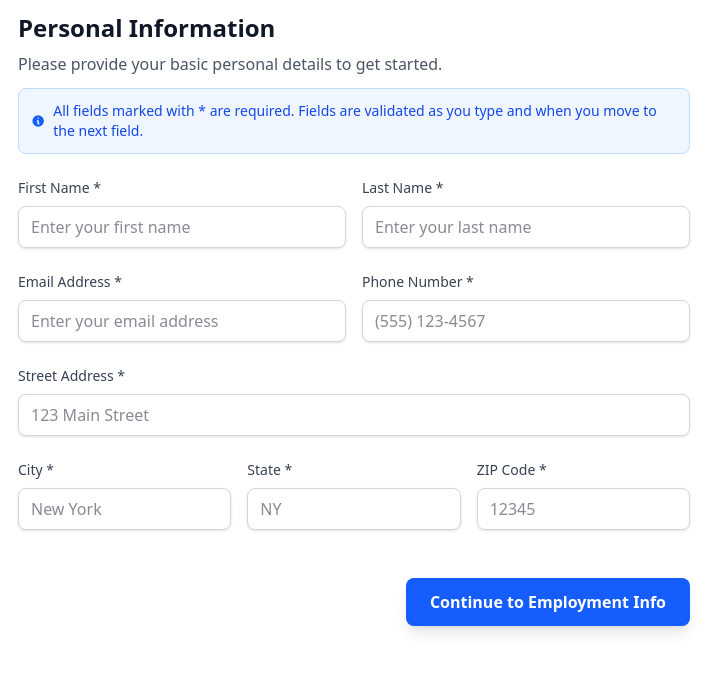
Scenario: PersonalInfoForm Email Validation › shows validation error for invalid email format on blur
The width and height of the screenshot is (709, 676).
Note: Enter invalid email
Type "invalid-email" into the field labelled "Email Address *" at (182,321), box [18,300,346,342]
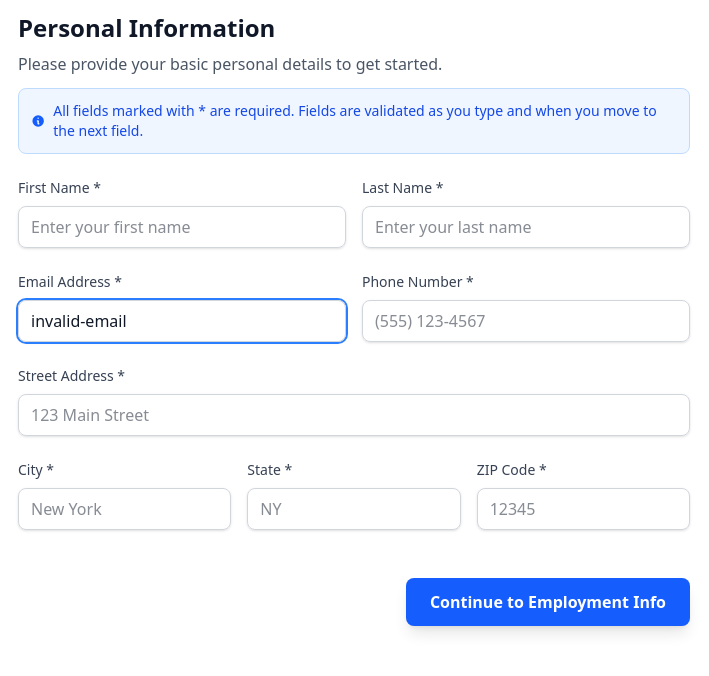
Press Tab
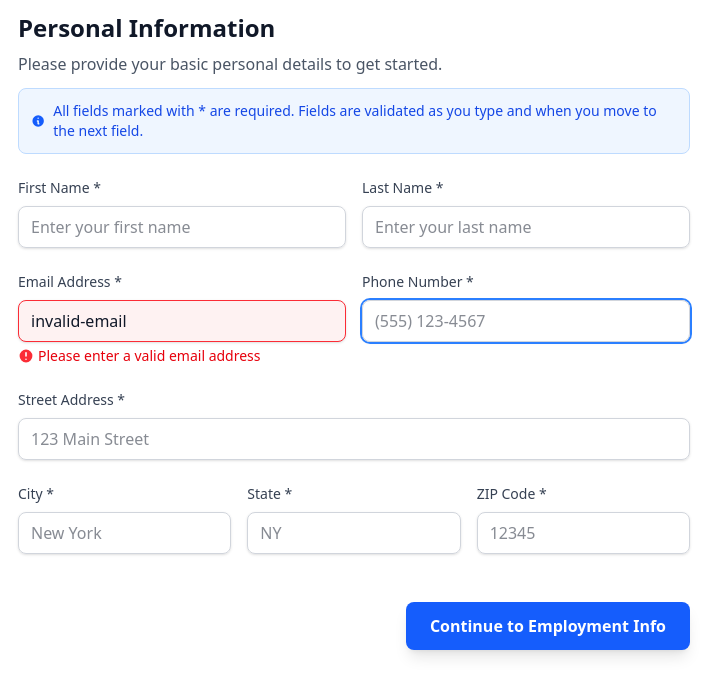
Expected: the text "Please enter a valid email address" is shown, [38,346,260,366]
